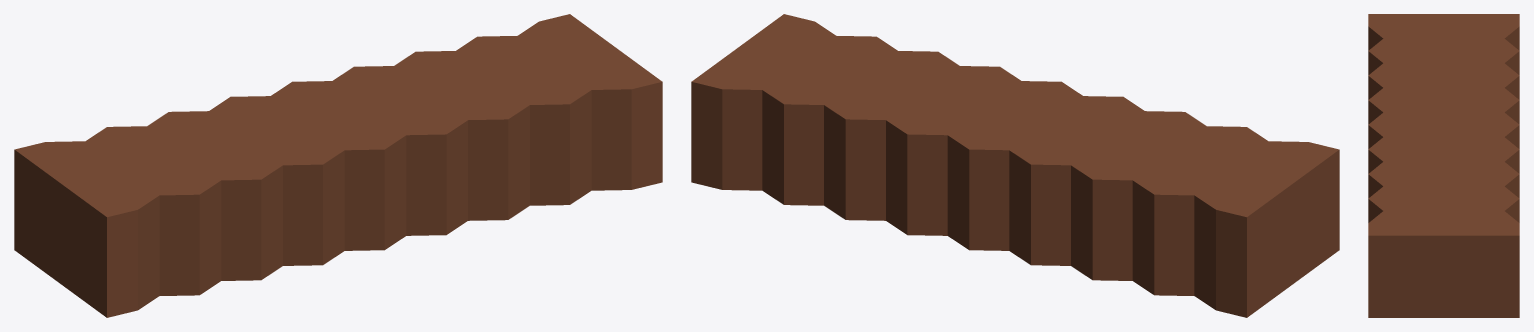
Rendered from wooden_wall.glb.
3 renders of one model, left to right at view 1: azimuth 30°, elevation 25°; view 2: azimuth 150°, elevation 25°; view 3: azimuth 270°, elevation 25°, orthographic. The views are drawn at different scales.
Parts seen in each view (by area): view 1: WoodenWall-col; view 2: WoodenWall-col; view 3: WoodenWall-col.
Boxes of the visible parts, x1,y1,x2,y2 form: WoodenWall-col: (14, 14, 662, 317); WoodenWall-col: (691, 14, 1339, 317); WoodenWall-col: (1368, 14, 1519, 317).
Bounding box in the file's own units: 1.73 × 0.3 × 0.5.
1 material, 1 textured.
